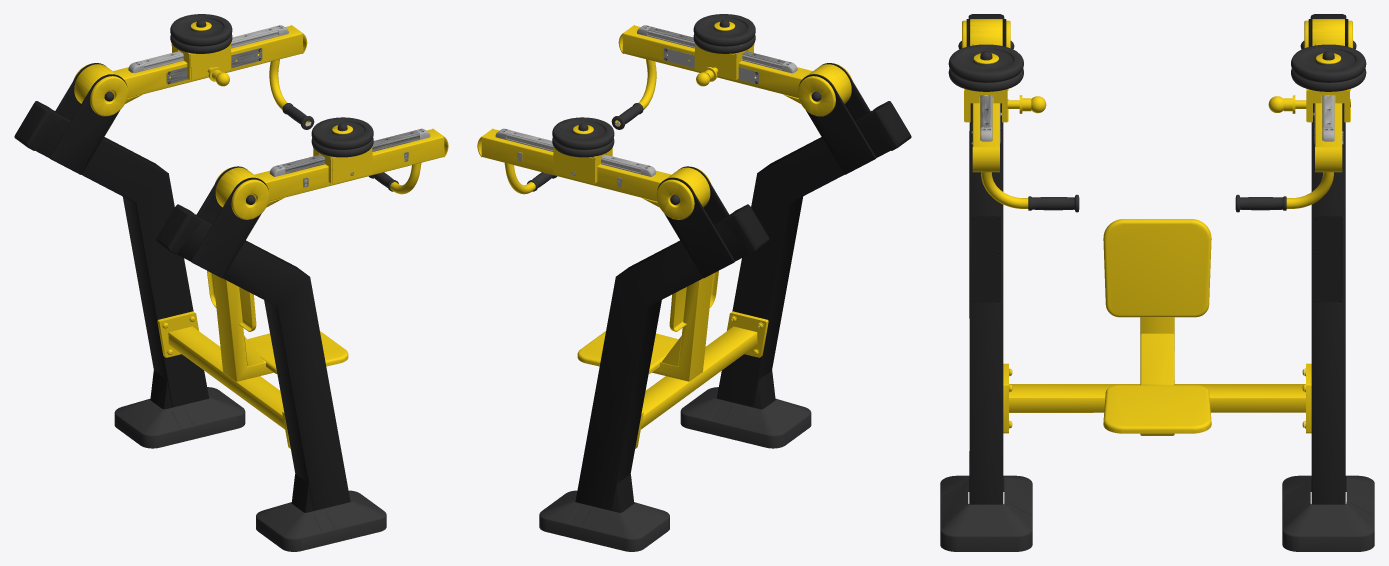
3 views of the same model, side by side, from view 1: azimuth 30°, elevation 25°; view 2: azimuth 150°, elevation 25°; view 3: azimuth 270°, elevation 25° (orthographic). The views are drawn at different scales.
Parts seen in each view (by area): view 1: Geom3D (×5); view 2: Geom3D (×4); view 3: Geom3D (×4).
Part boxes in pixels (<box>): Geom3D (×5): <box>14,14,448,551</box>; Geom3D (×4): <box>477,14,911,551</box>; Geom3D (×4): <box>940,14,1374,551</box>.
Size of the model in its own units: 1.15 by 1.56 by 1.27.
6 materials, 1 textured.
